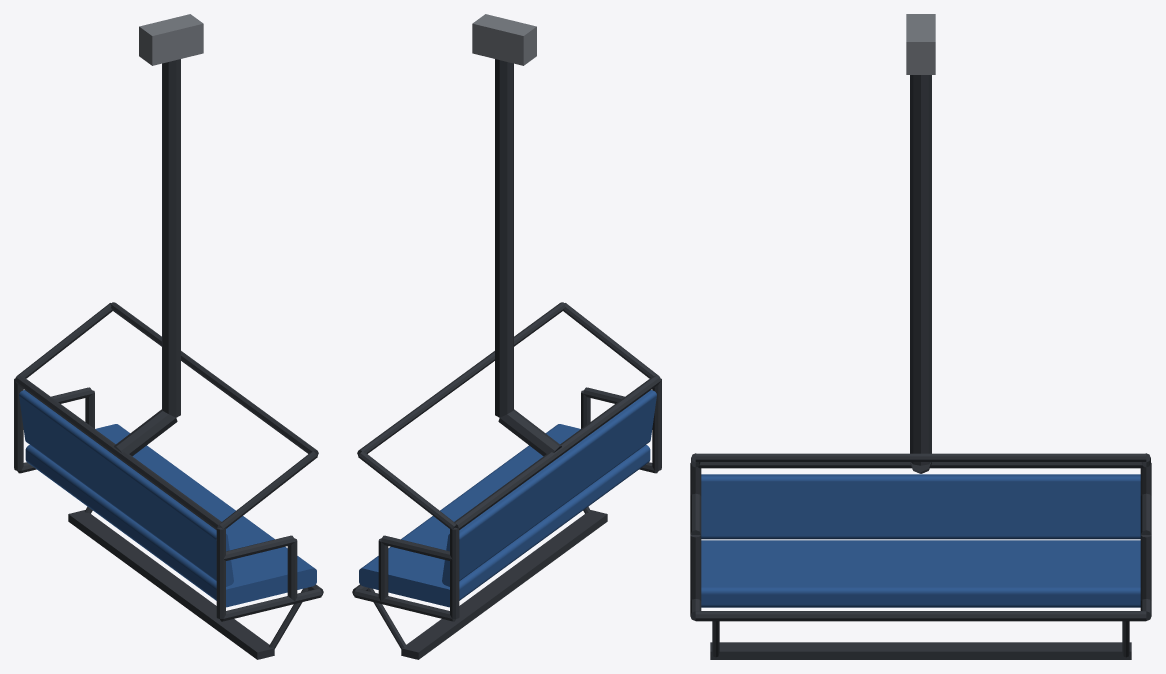
Rendered from chair_quad.obj.
The picture shows the model from 3 angles, left to right: view 1: azimuth 30°, elevation 25°; view 2: azimuth 150°, elevation 25°; view 3: azimuth 270°, elevation 25°; orthographic projection. The views are drawn at different scales.
Bounding box in the file's own units: 0.75 × 3.78 × 2.52.
